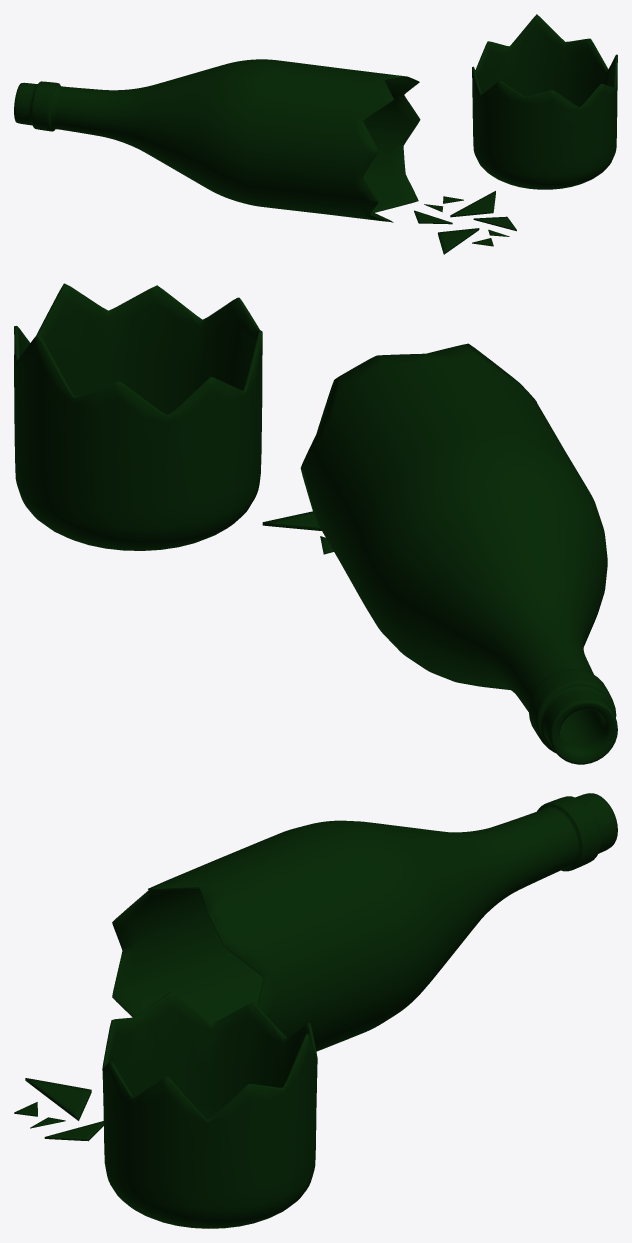
Rendered from broken wine bottle.fbx.
The picture shows the model from 3 angles, top to bottom: view 1: azimuth 30°, elevation 25°; view 2: azimuth 150°, elevation 25°; view 3: azimuth 270°, elevation 25°; orthographic projection. The views are drawn at different scales.
Visible parts, largest first — view 1: Botella_rota_parte_de_abajo; view 2: Botella_rota_parte_de_abajo; view 3: Botella_rota_parte_de_abajo.
Boxes of the visible parts, bbox=[...] form: Botella_rota_parte_de_abajo: bbox=[14, 14, 617, 254]; Botella_rota_parte_de_abajo: bbox=[14, 283, 617, 764]; Botella_rota_parte_de_abajo: bbox=[14, 793, 617, 1228].
Bounding box in the file's own units: 44.05 × 12 × 33.48.
